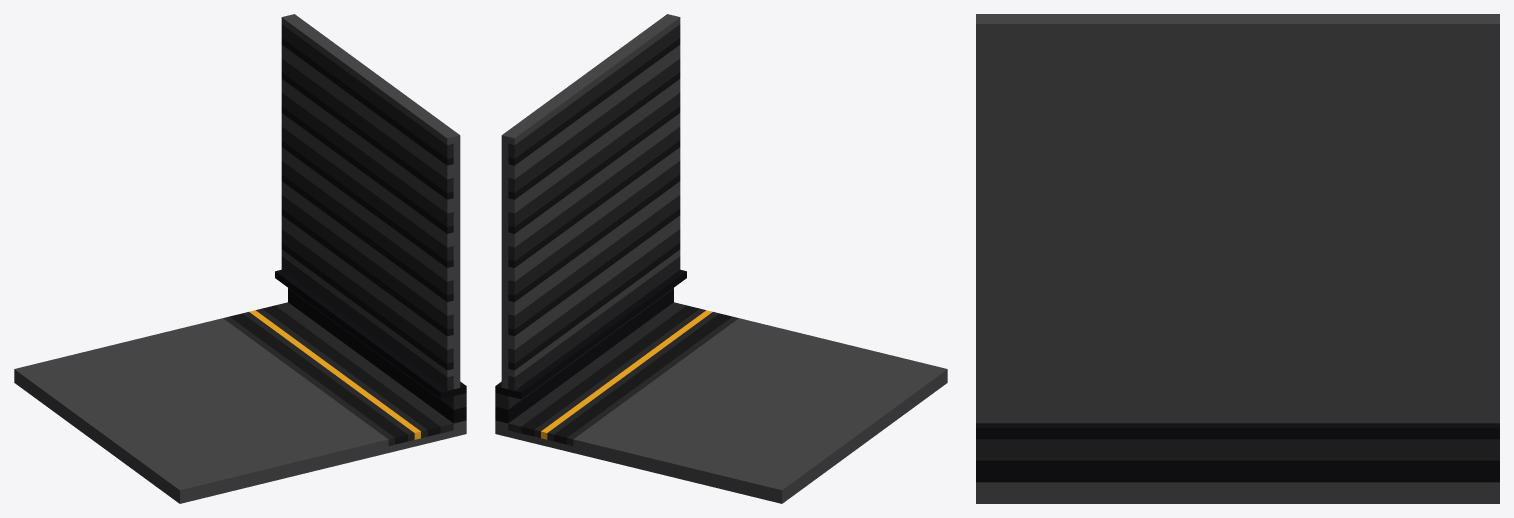
Rendered from mesh_hanger_ship_door_bottom_middle.obj.
3 views of the same model, side by side, from view 1: azimuth 30°, elevation 25°; view 2: azimuth 150°, elevation 25°; view 3: azimuth 270°, elevation 25° (orthographic). The views are drawn at different scales.
Size of the model in its own units: 4.4 by 4.4 by 4.4.
1 material, 1 textured.
